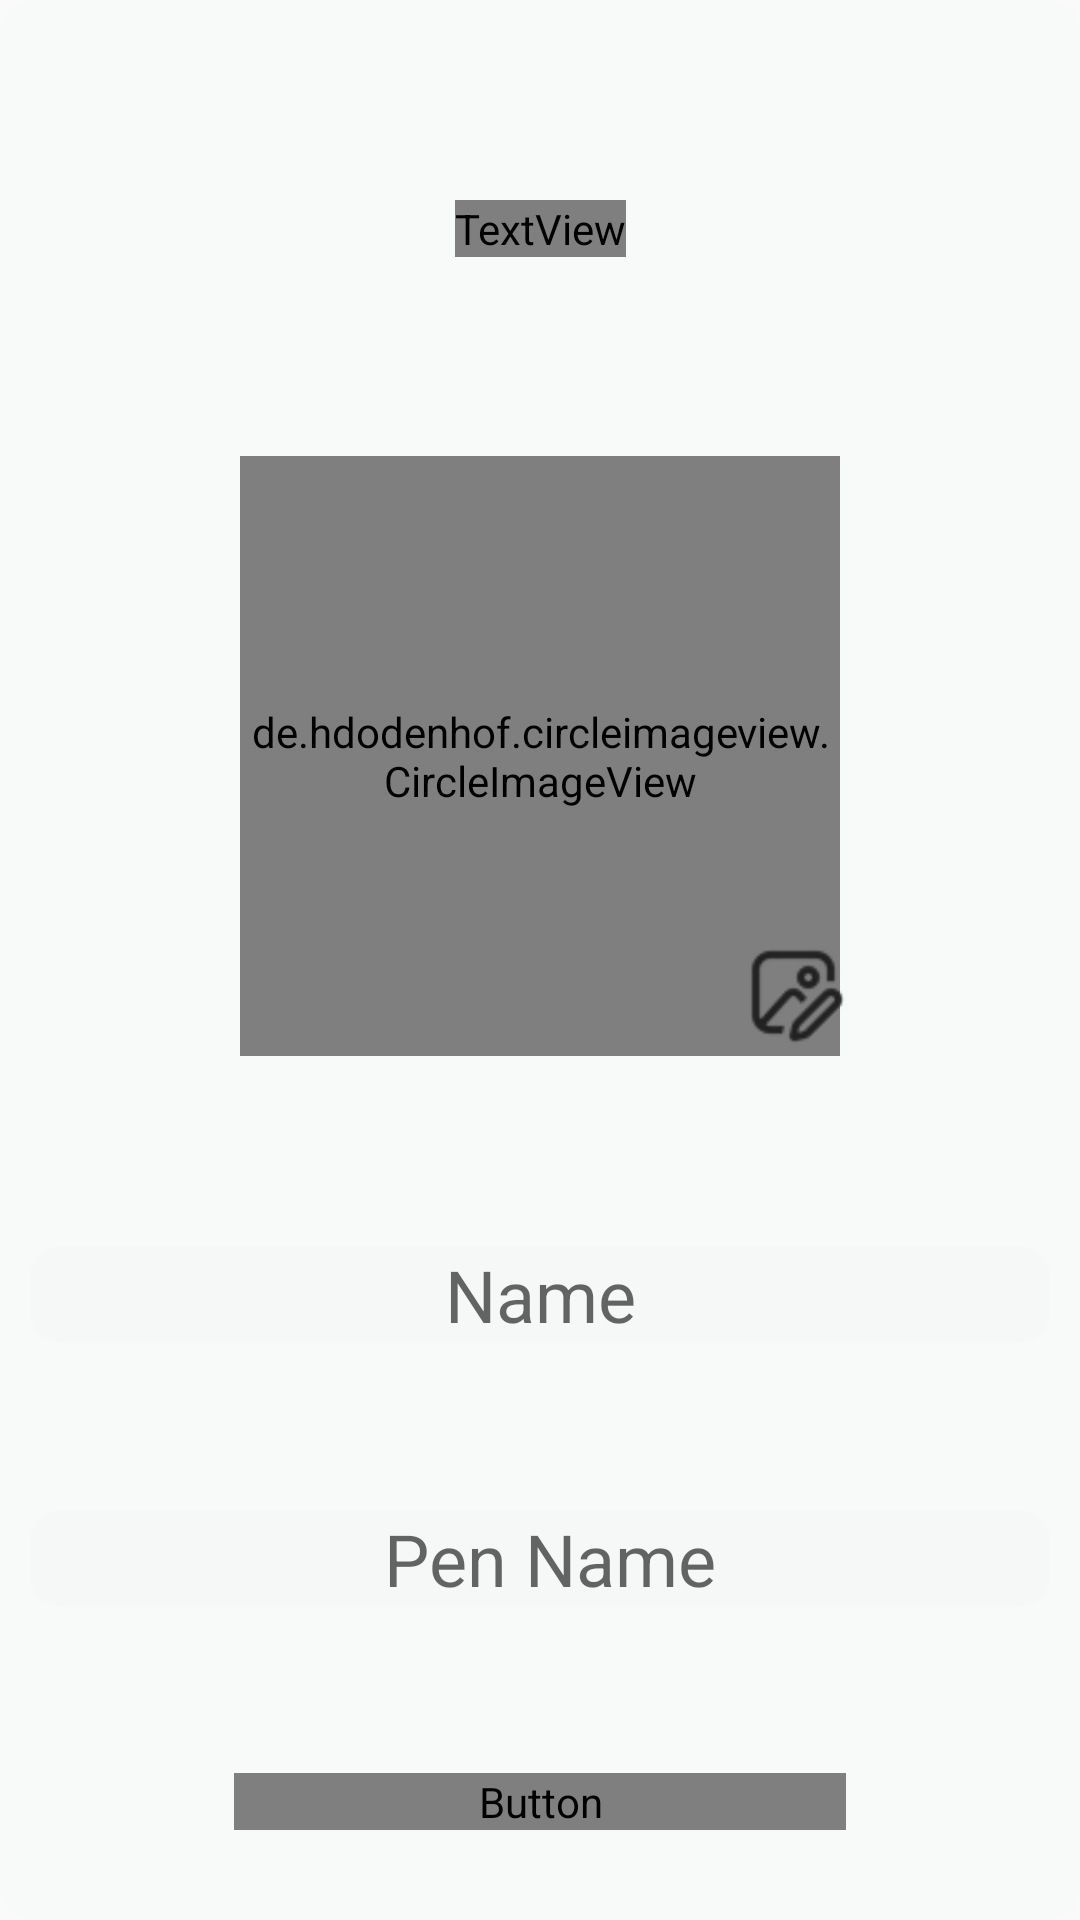

Screen size 1080x1920. Icon name, then its center in pixels as (x=x, y=y):
edit: (x=797, y=996)
